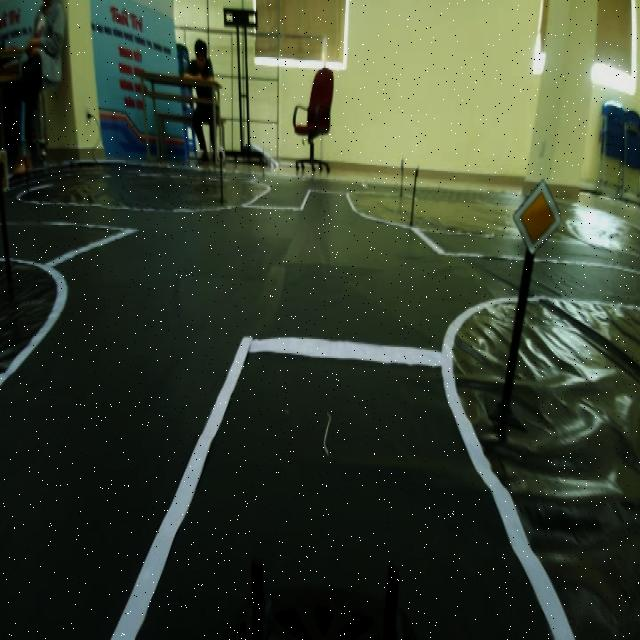priority: (510, 174, 564, 262)
